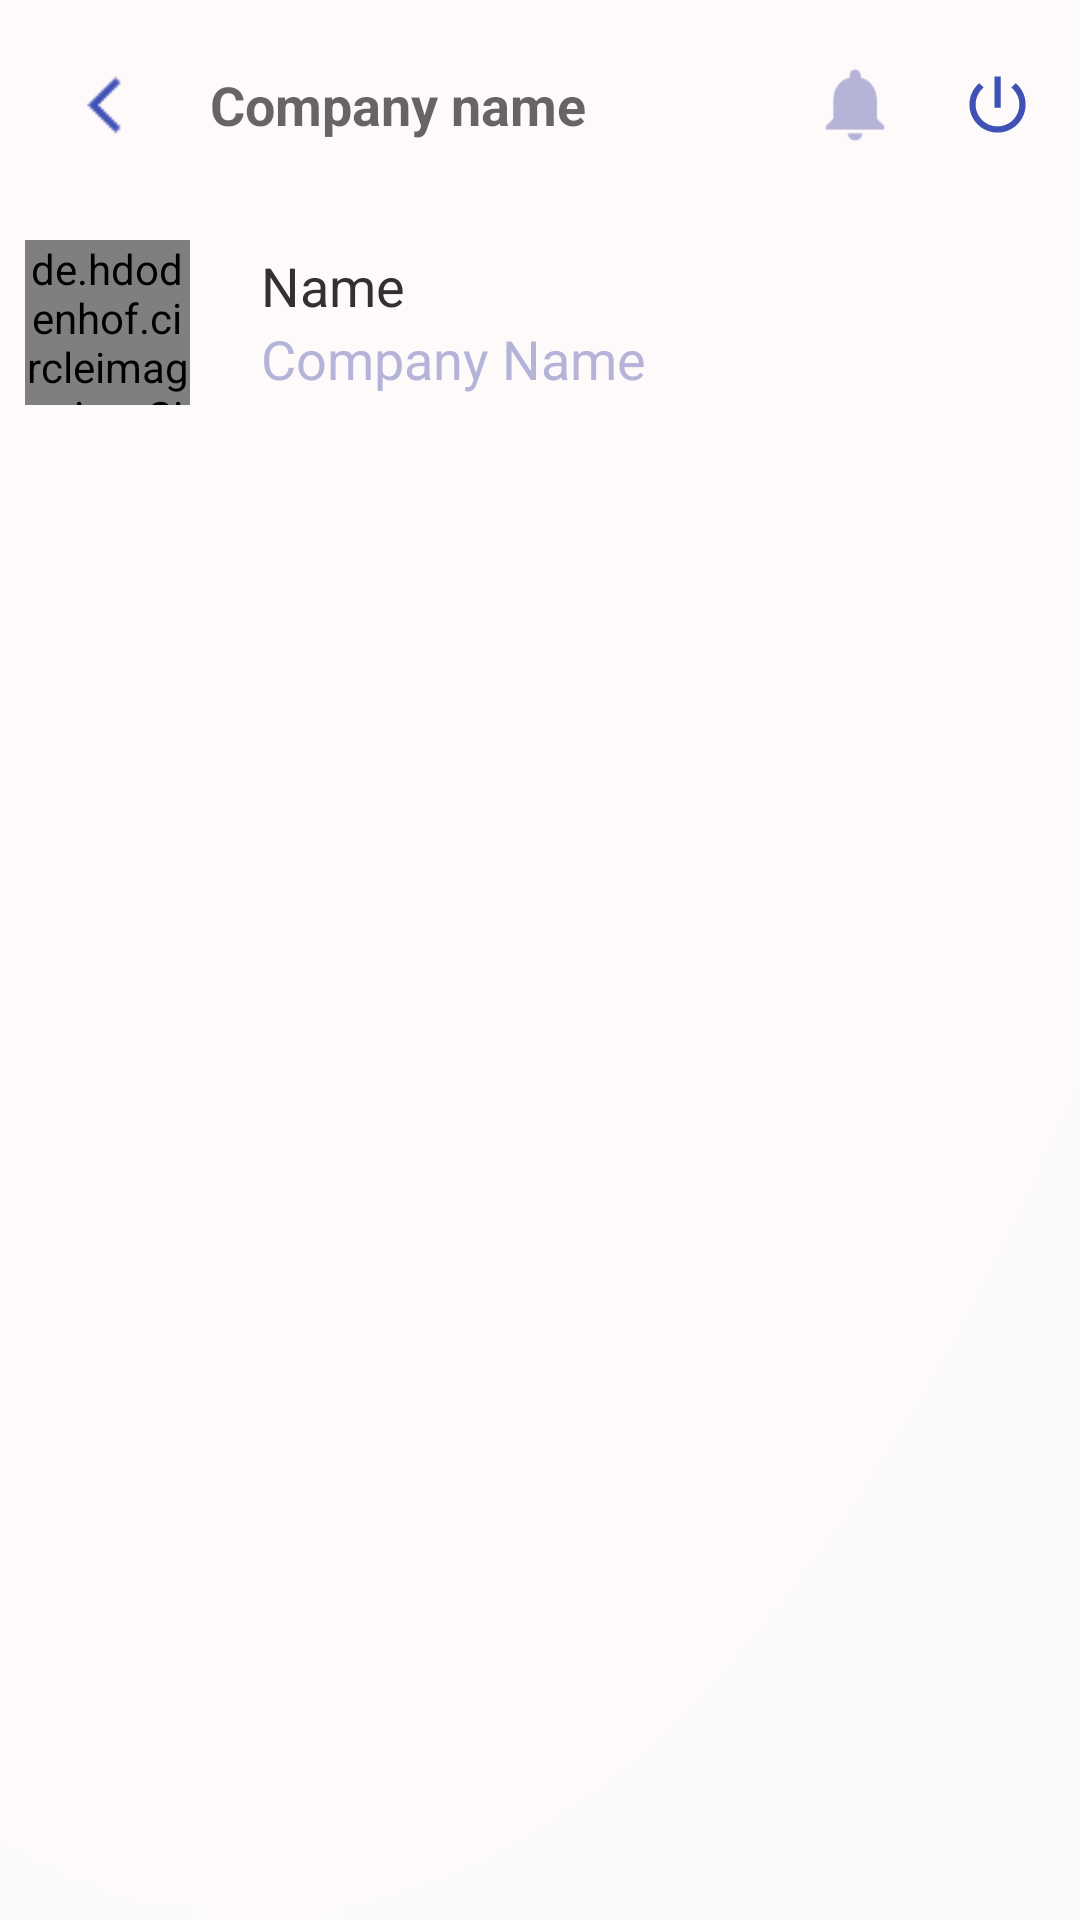

Point at icon controls on the screen. Image size 1080*1920, points as [x,y].
arrow back: [104,105]
notification: [855,105]
